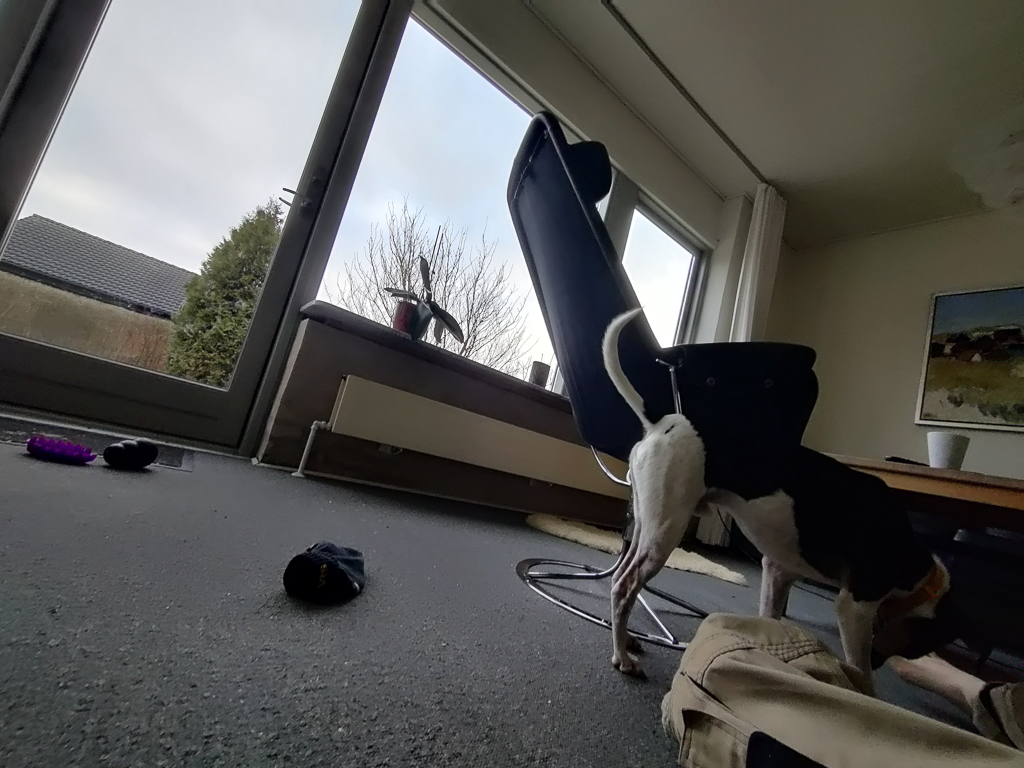Dog: (562, 289, 1003, 696)
Humanoid: (639, 598, 1024, 768)
